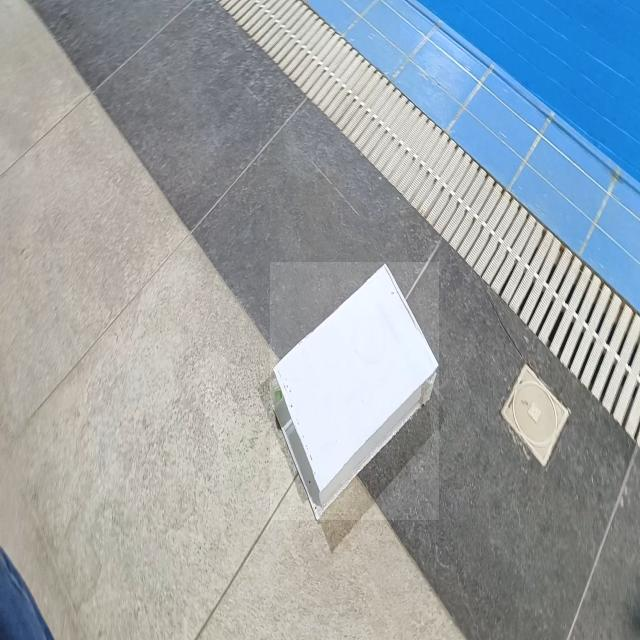Cuboid: (270, 262, 439, 520)
